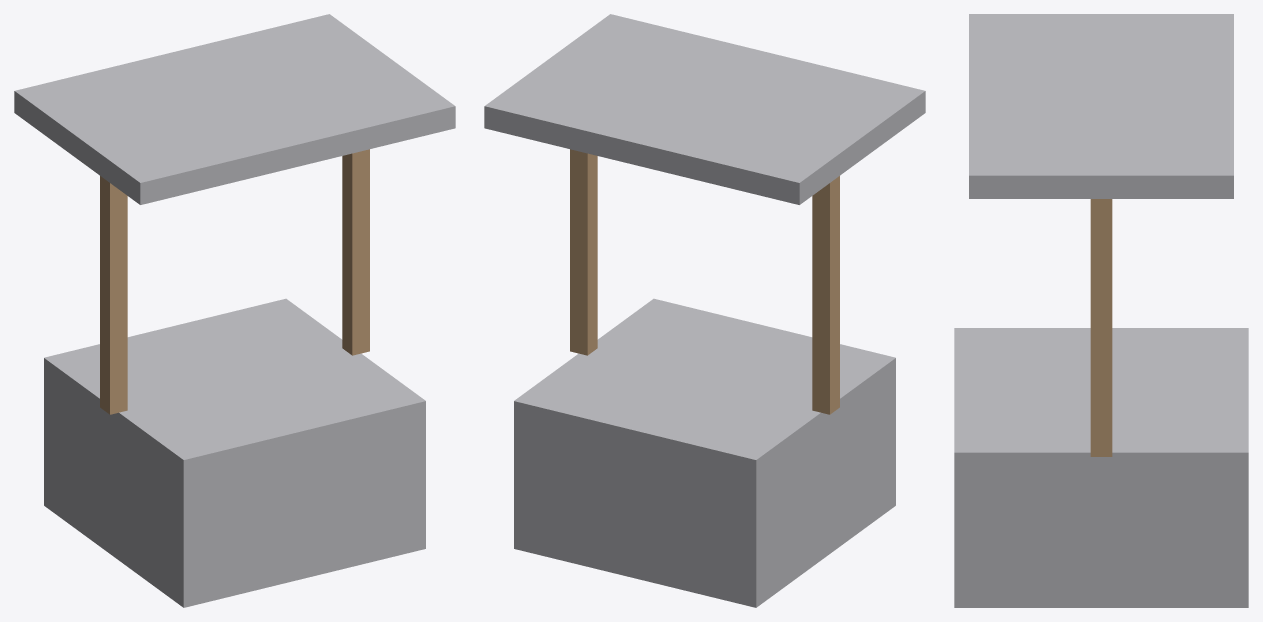
File: Prop_Water_AMF_Well_V6.glb
3 views of the same model, side by side, from view 1: azimuth 30°, elevation 25°; view 2: azimuth 150°, elevation 25°; view 3: azimuth 270°, elevation 25° (orthographic). The views are drawn at different scales.
Parts seen in each view (by area): view 1: Prop_Water_AMF_Well_V6; view 2: Prop_Water_AMF_Well_V6; view 3: Prop_Water_AMF_Well_V6.
Boxes of the visible parts, <box> form: Prop_Water_AMF_Well_V6: <box>14,14,455,607</box>; Prop_Water_AMF_Well_V6: <box>484,14,925,607</box>; Prop_Water_AMF_Well_V6: <box>954,14,1248,607</box>.
Bounding box in the file's own units: 1.78 × 2.32 × 1.37.
